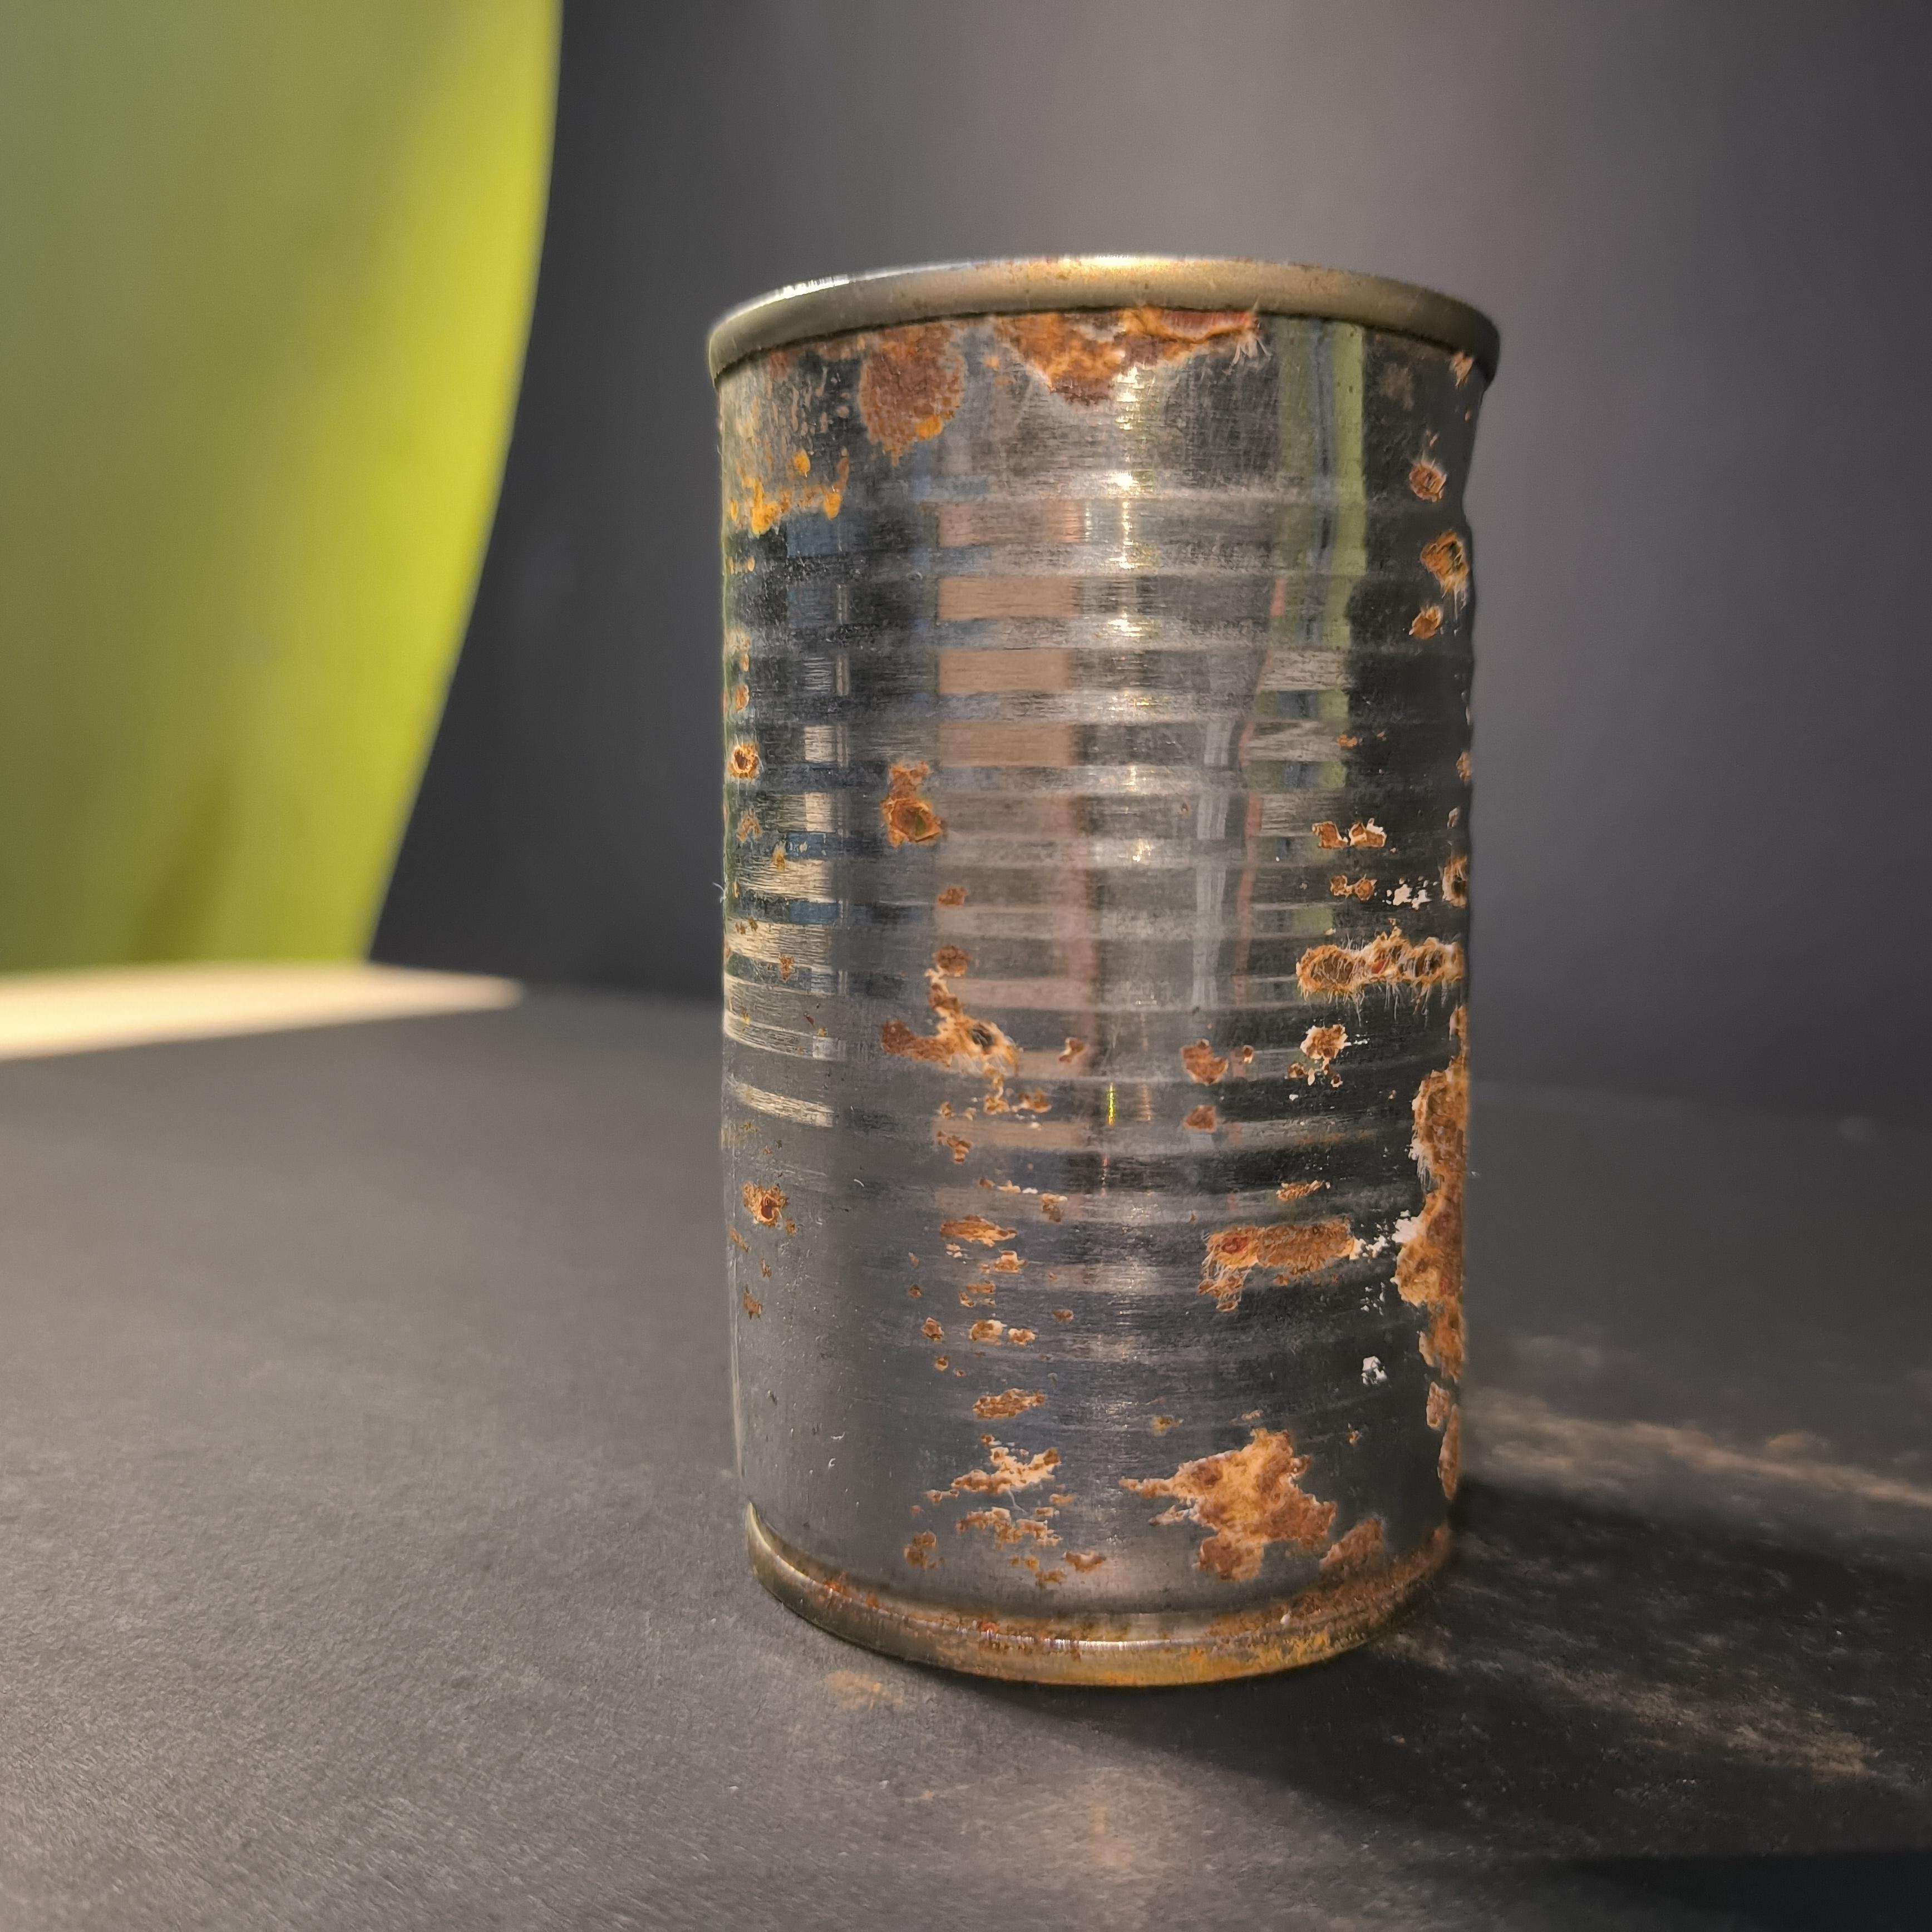Rusted: (681, 214, 1506, 1714)
